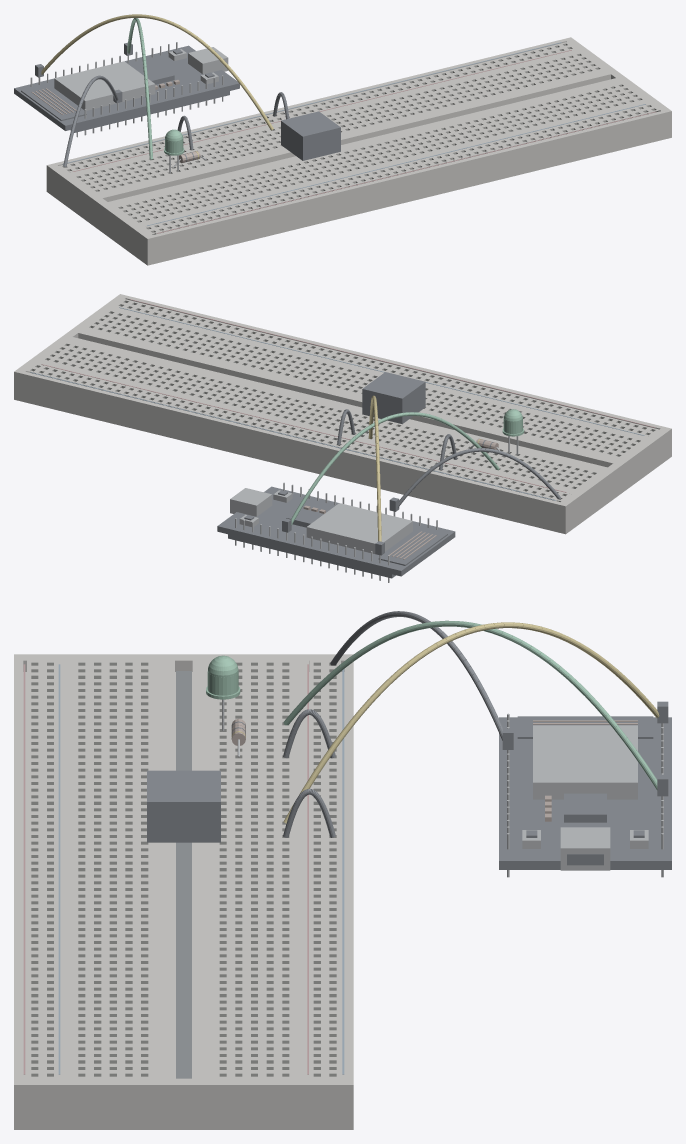
The model's file is step-9.glb.
3 views of the same model, one above another, from view 1: azimuth 30°, elevation 25°; view 2: azimuth 150°, elevation 25°; view 3: azimuth 270°, elevation 25° (orthographic). The views are drawn at different scales.
Visible parts, largest first — view 1: breadboard__mesh, uno__mesh, button__mesh, button_signal__mesh, led_signal__mesh, ground_feed__mesh, green_led__mesh; view 2: breadboard__mesh, uno__mesh, button__mesh, led_signal__mesh, ground_feed__mesh, button_signal__mesh, green_led__mesh; view 3: breadboard__mesh, uno__mesh, button__mesh, led_signal__mesh, button_signal__mesh, ground_feed__mesh, green_led__mesh.
Boxes of the visible parts, x1=… form: breadboard__mesh: x1=46, y1=37, x2=671, y2=265; uno__mesh: x1=14, y1=42, x2=239, y2=137; button__mesh: x1=281, y1=111, x2=340, y2=160; button_signal__mesh: x1=35, y1=14, x2=273, y2=130; led_signal__mesh: x1=124, y1=18, x2=153, y2=159; ground_feed__mesh: x1=63, y1=75, x2=122, y2=167; green_led__mesh: x1=164, y1=129, x2=184, y2=173; breadboard__mesh: x1=14, y1=294, x2=671, y2=534; uno__mesh: x1=217, y1=482, x2=455, y2=582; button__mesh: x1=362, y1=372, x2=425, y2=424; led_signal__mesh: x1=282, y1=412, x2=499, y2=532; ground_feed__mesh: x1=389, y1=448, x2=560, y2=511; button_signal__mesh: x1=368, y1=395, x2=384, y2=555; green_led__mesh: x1=502, y1=409, x2=524, y2=454; breadboard__mesh: x1=14, y1=654, x2=353, y2=1129; uno__mesh: x1=499, y1=713, x2=671, y2=877; button__mesh: x1=147, y1=770, x2=220, y2=842; led_signal__mesh: x1=283, y1=620, x2=668, y2=796; button_signal__mesh: x1=283, y1=622, x2=668, y2=823; ground_feed__mesh: x1=330, y1=611, x2=513, y2=749; green_led__mesh: x1=206, y1=655, x2=240, y2=730.
Size of the model in its own units: 0.165 by 0.0341 by 0.1065.
